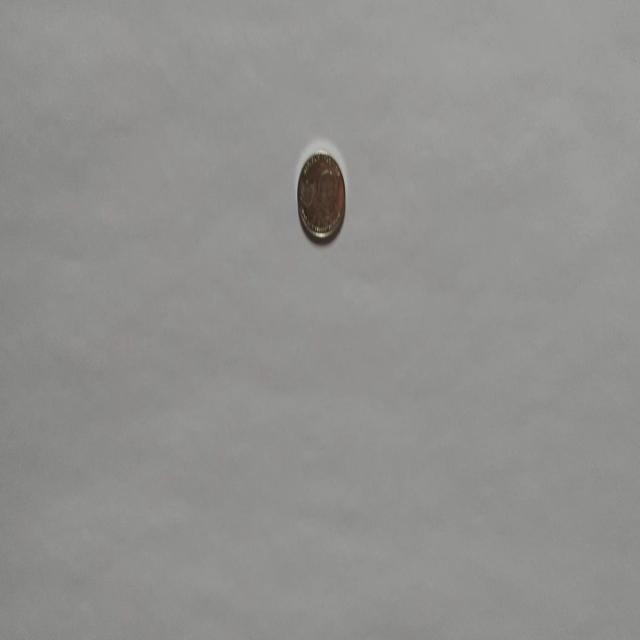seratus rupiah: (296, 148, 346, 242)
